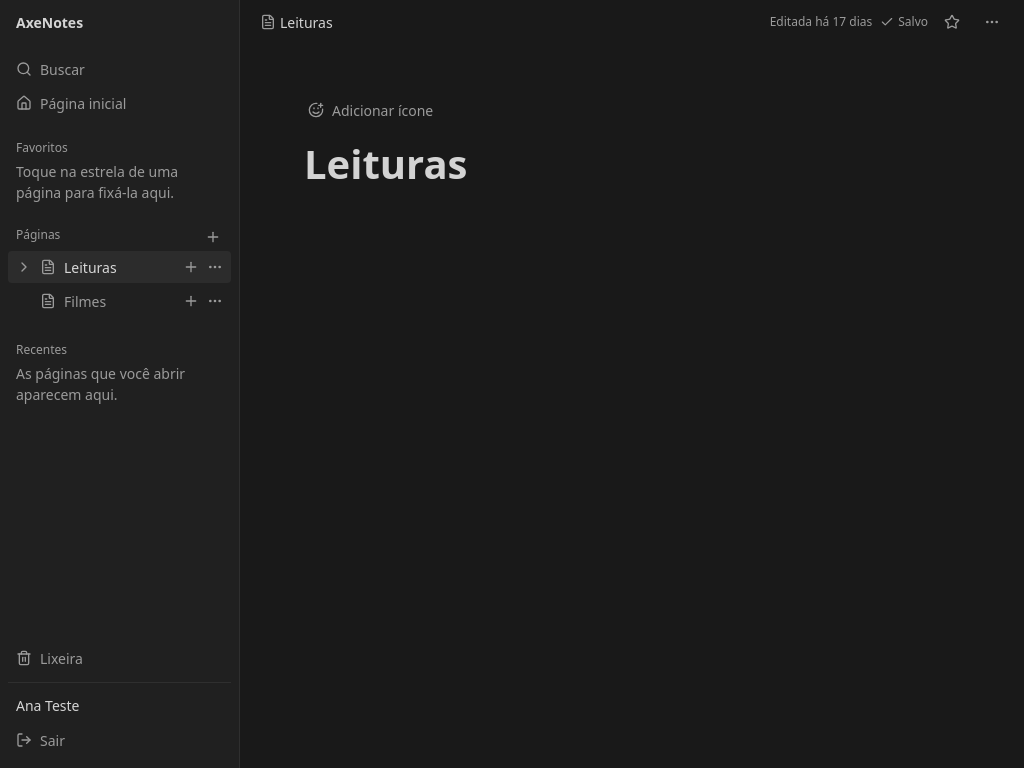
Test: estrela da página › shows a dismissible error in the page, not in the sidebar, when it fails
Click the button named "Adicionar aos favoritos": click(952, 22) top-left (936, 6), bottom-right (968, 38)
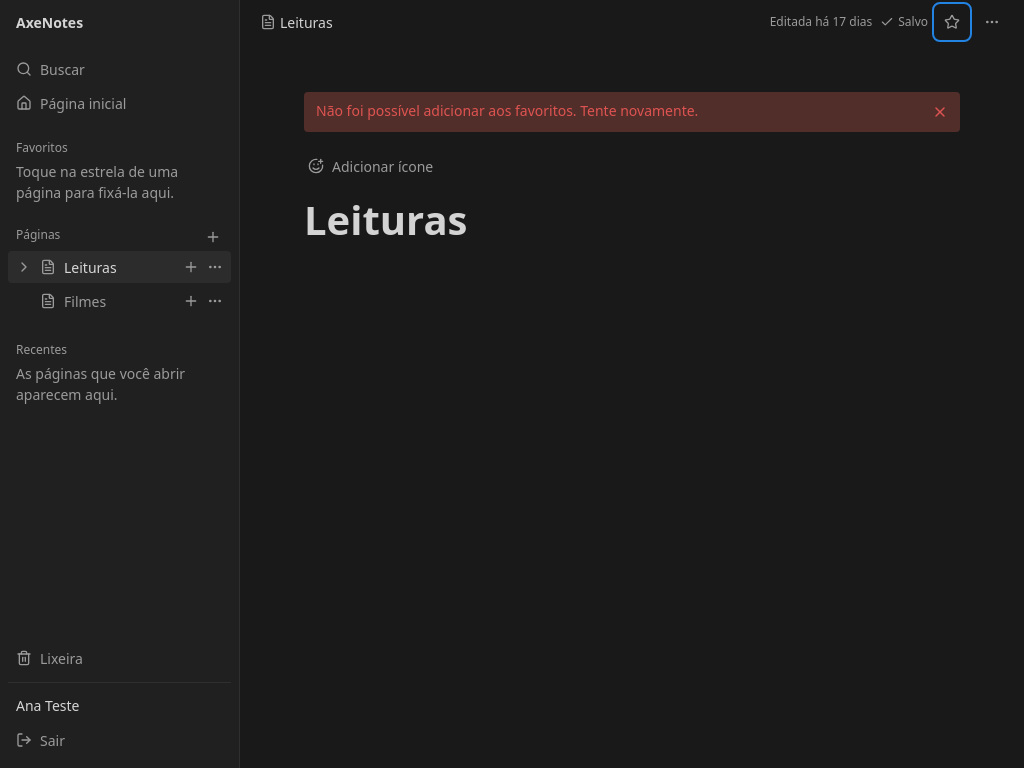
Result: the message "Não foi possível adicionar aos favoritos. Tente novamente." is shown at top-left (304, 92), bottom-right (960, 132)
Click the button named "Dispensar aviso": click(940, 112) top-left (924, 96), bottom-right (956, 128)
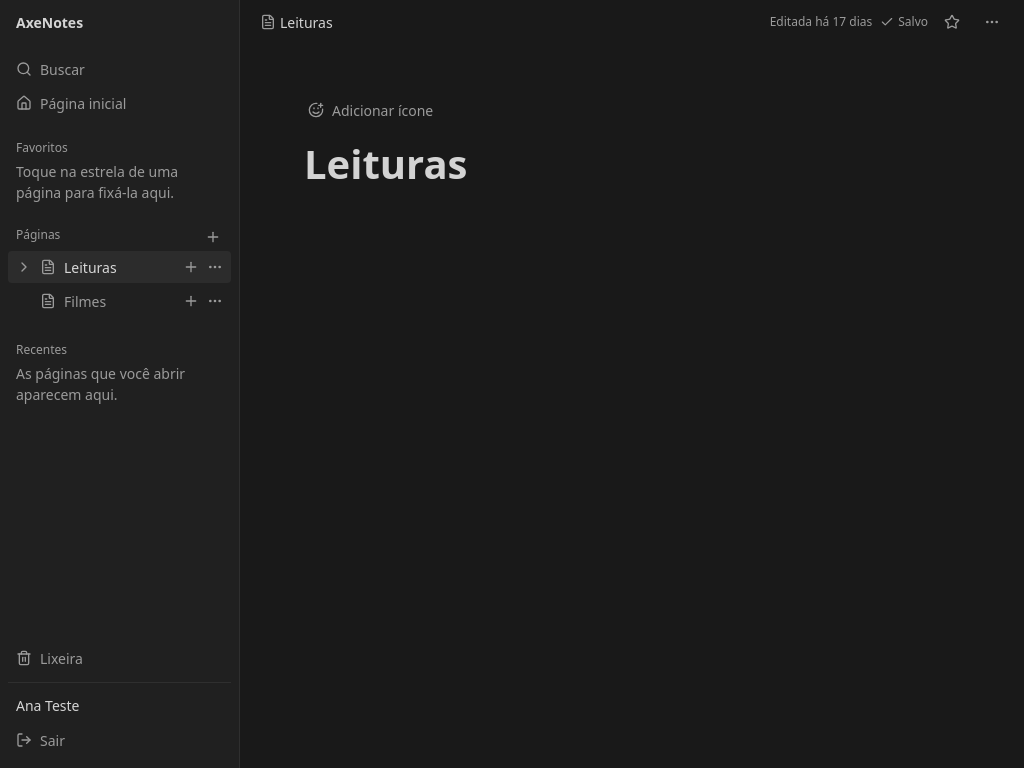
Result: the message "Não foi possível adicionar aos favoritos. Tente novamente." is gone
